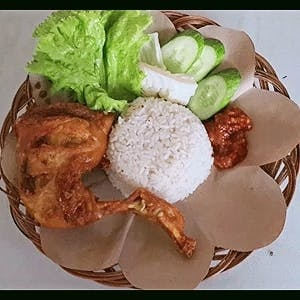ayam_goreng: (4, 98, 191, 262)
